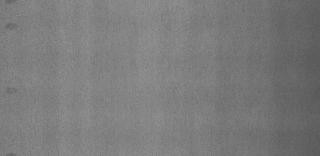oil spot: (4, 85, 20, 99), (5, 21, 17, 30)
